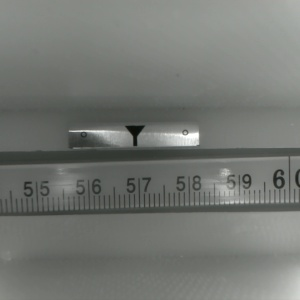0: (293, 168, 300, 188)
5: (23, 181, 33, 197), (175, 176, 185, 191), (125, 178, 135, 193), (75, 180, 85, 195), (39, 181, 49, 196)
6: (272, 169, 285, 189), (91, 179, 101, 195), (225, 173, 235, 188)
7: (141, 177, 151, 192)
8: (191, 175, 201, 191)
9: (241, 173, 251, 189)
finger: (122, 125, 145, 146)
